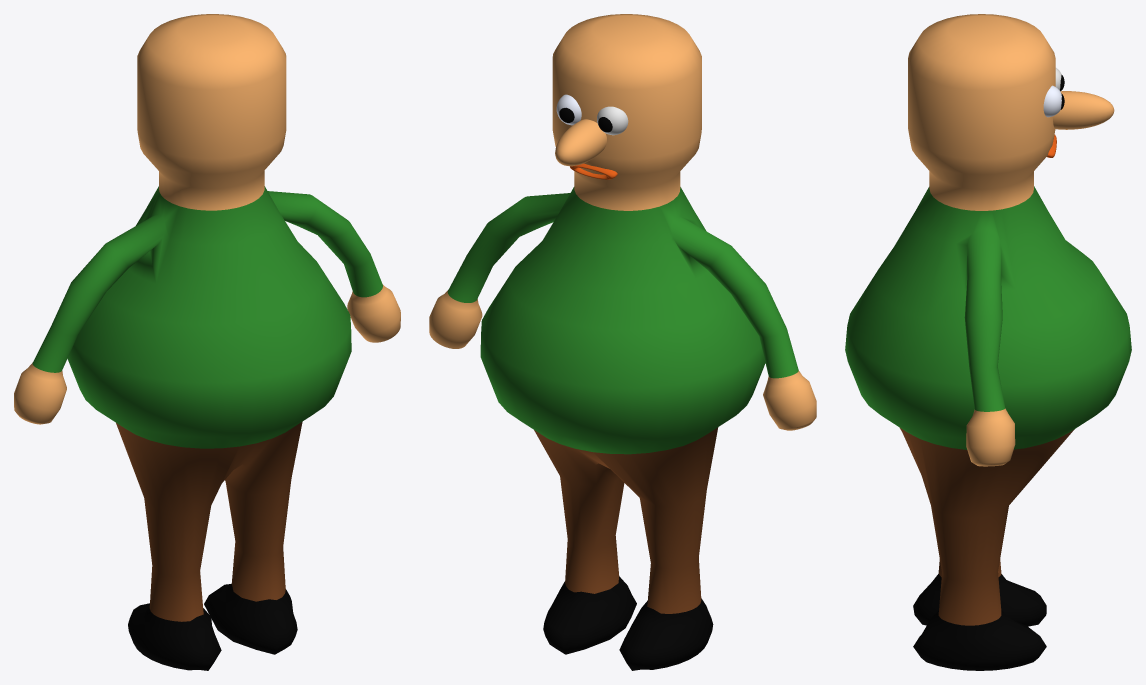
Rendered from opera.fbx.
3 views of the same model, side by side, from view 1: azimuth 30°, elevation 25°; view 2: azimuth 150°, elevation 25°; view 3: azimuth 270°, elevation 25° (orthographic).
Visible parts, largest first — view 1: Cylinder; view 2: Cylinder, Sphere.004, Sphere.003; view 3: Cylinder, Sphere.004, Sphere.
Part boxes in pixels (x1=…): Cylinder: x1=14, y1=14, x2=400, y2=670; Cylinder: x1=429, y1=14, x2=816, y2=670; Sphere.004: x1=555, y1=119, x2=606, y2=166; Sphere.003: x1=597, y1=106, x2=628, y2=135; Cylinder: x1=845, y1=14, x2=1131, y2=670; Sphere.004: x1=1053, y1=91, x2=1114, y2=129; Sphere: x1=1043, y1=85, x2=1061, y2=117.
Size of the model in its own units: 307 by 470 by 200.
